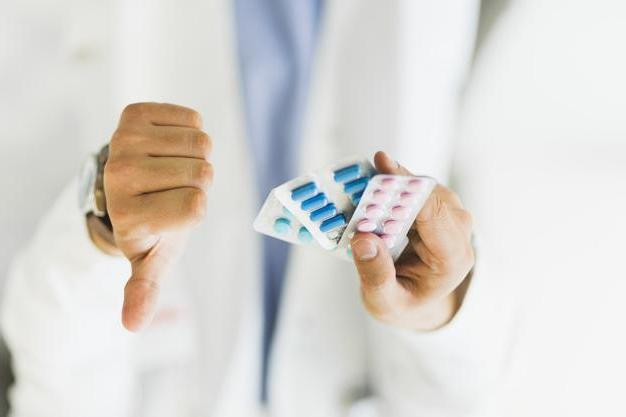thumbsdown: (104, 102, 214, 333)
